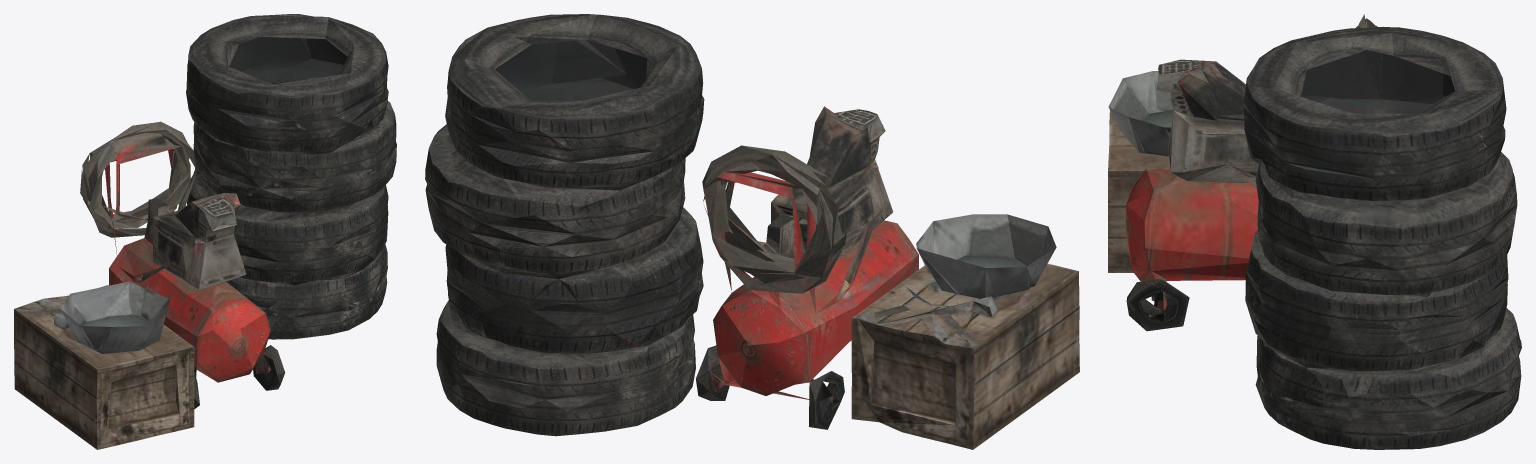
The model's file is tyres.glb.
The picture shows the model from 3 angles, left to right: view 1: azimuth 30°, elevation 25°; view 2: azimuth 150°, elevation 25°; view 3: azimuth 270°, elevation 25°; orthographic projection. The views are drawn at different scales.
Bounding box in the file's own units: 1.9 × 1.18 × 1.35.
1 material, 1 textured.
